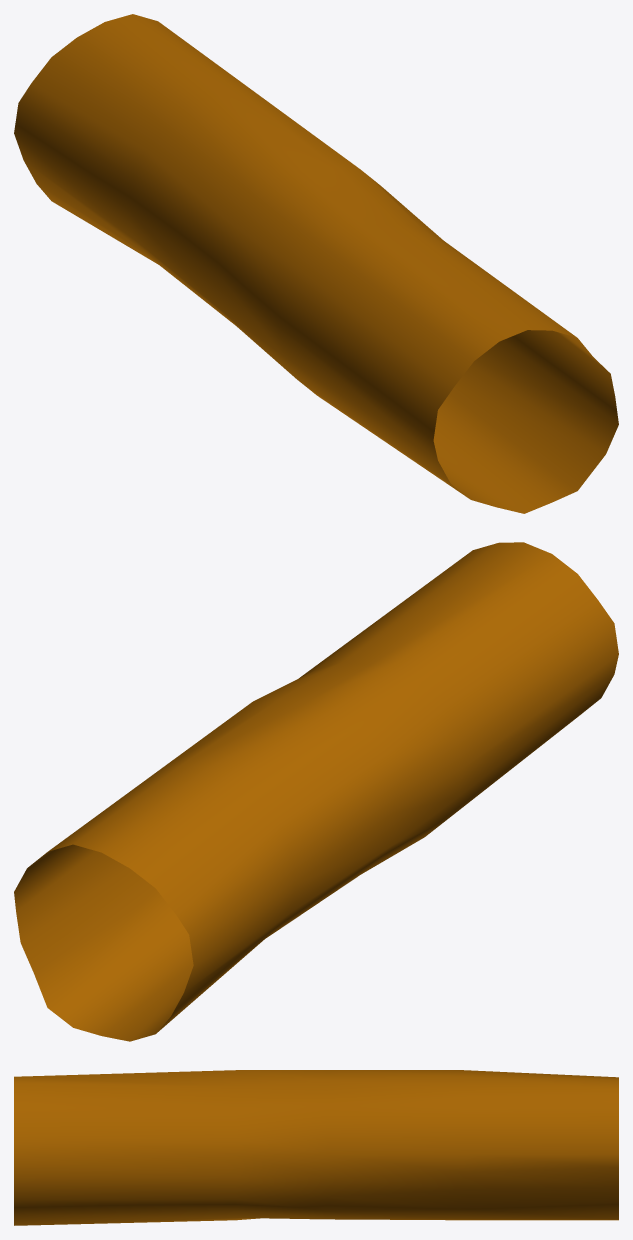
The model's file is 60x20 tree trunk.fbx.
The picture shows the model from 3 angles, top to bottom: view 1: azimuth 30°, elevation 25°; view 2: azimuth 150°, elevation 25°; view 3: azimuth 270°, elevation 25°; orthographic projection. The views are drawn at different scales.
Visible parts, largest first — view 1: pCylinder1; view 2: pCylinder1; view 3: pCylinder1.
Boxes of the visible parts, bbox=[...] form: pCylinder1: bbox=[14, 14, 618, 513]; pCylinder1: bbox=[14, 542, 618, 1041]; pCylinder1: bbox=[14, 1070, 618, 1225].
Bounding box in the file's own units: 20.42 × 20.06 × 80.
